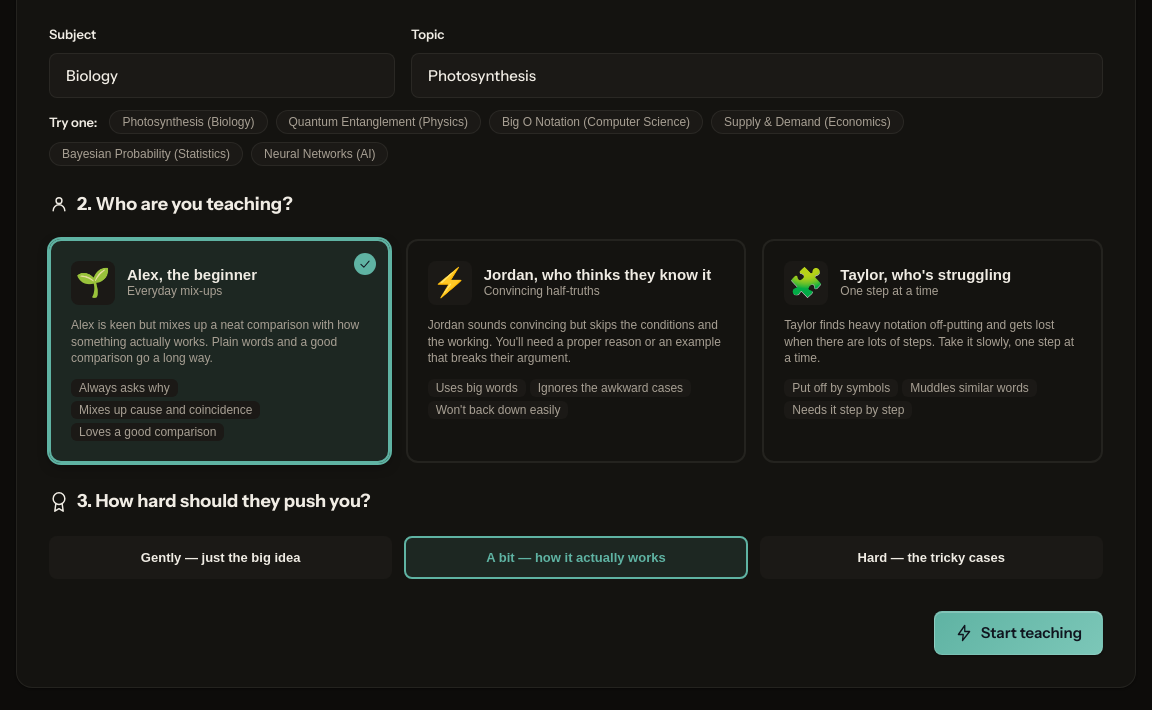
Test: FeynmanHubView Component › allows selecting personas and popular topic chips
This screenshot has width=1152, height=710.
(page scrolled)
// Click overconfident peer
Click the button with test id "persona-overconfident_peer".
click(576, 351)  # box [406,239,746,463]
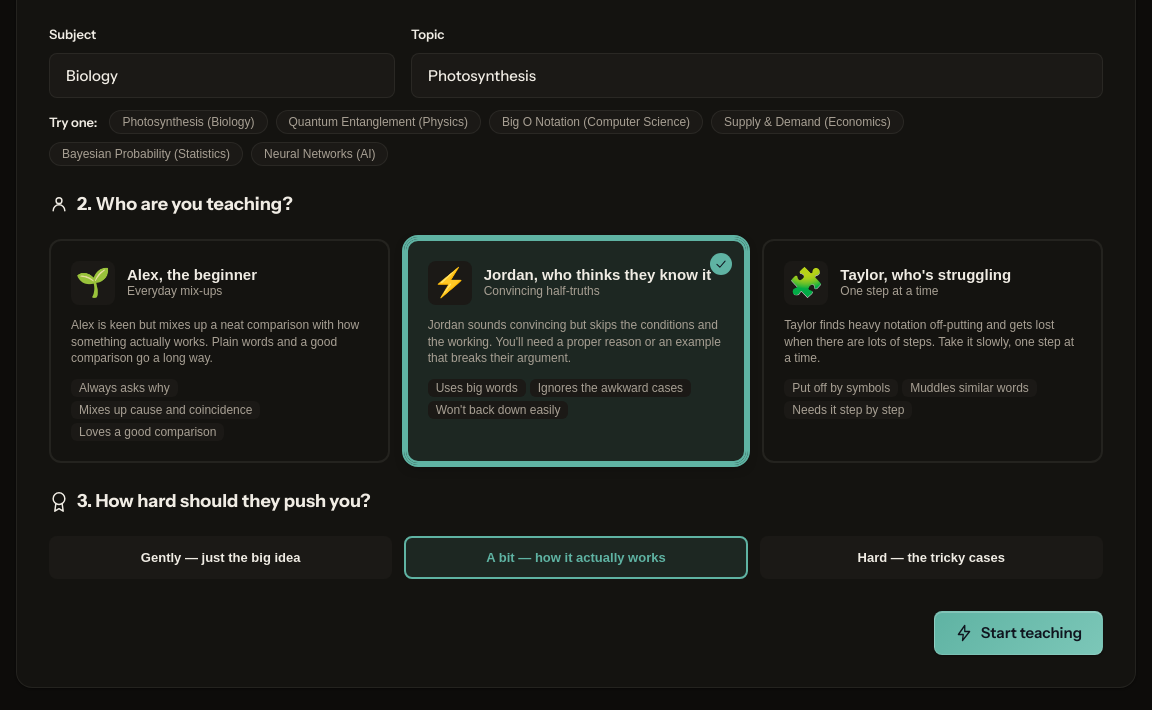
Click the button "Quantum Entanglement (Physics)".
click(378, 122)  # box [276,110,481,134]
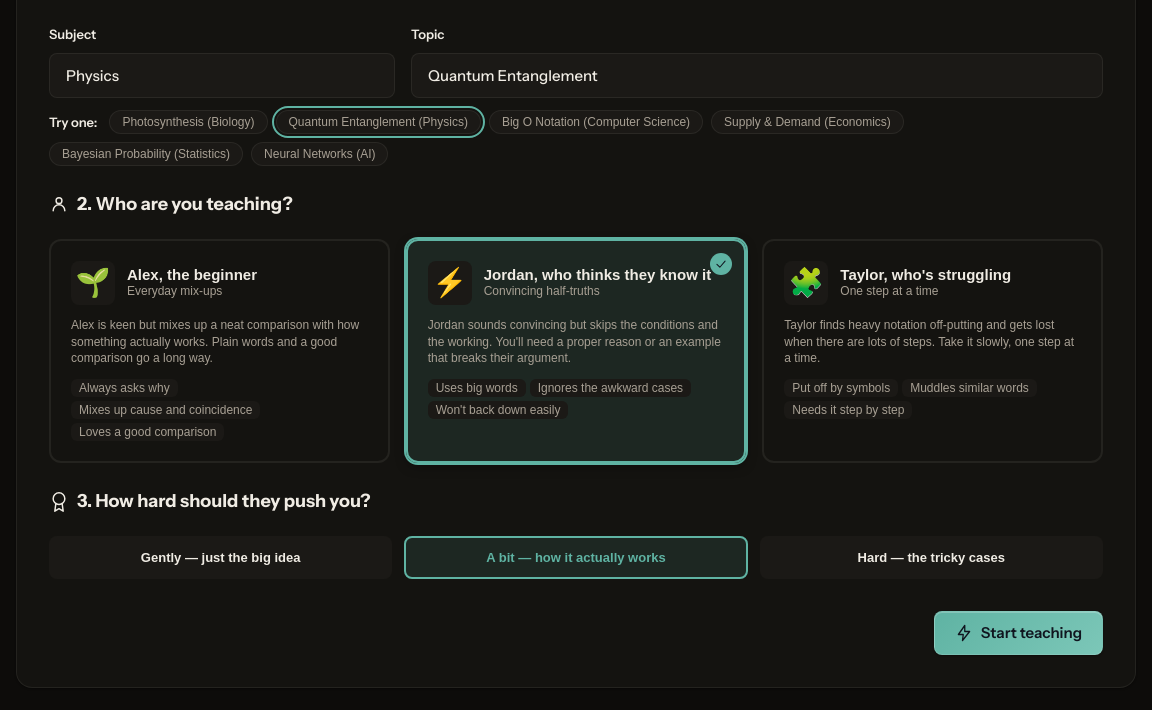
Expected: the field labelled "Topic" holds "Quantum Entanglement", [411,53,1103,98]
Expected: the field labelled "Subject" holds "Physics", [49,53,395,98]
